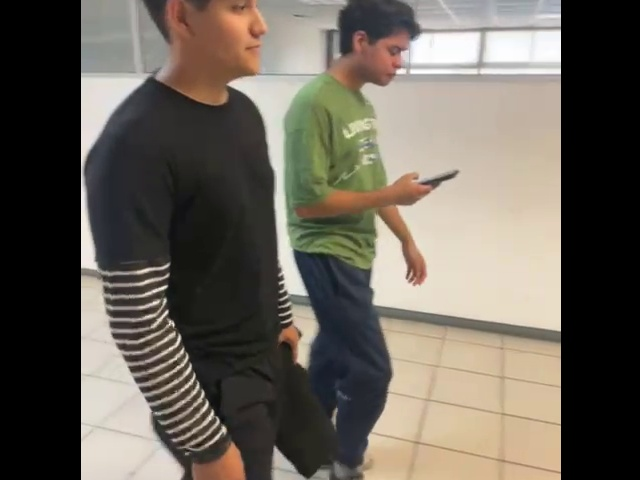mixto2: (407, 163, 458, 188)
